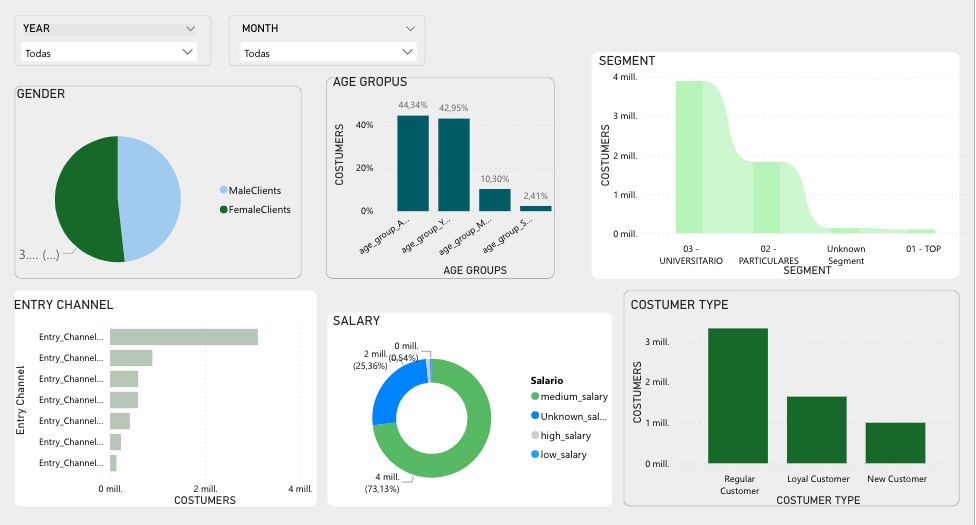

The dashboard page shown, as its layout file describes it:
{"tool":"powerbi","page":{"name":"Página 4","canvas":[1280,720],"ordinal":2},"visuals":[{"type":"clusteredColumnChart","title":"COSTUMER TYPE ","fields":{"Category":["Customers.Tipo de cliente"],"Y":["Medidas.ClientesPorTipoCliente"]},"box":[825.4,395.7,441.5,276.4],"z":0},{"type":"slicer","title":"YEAR","fields":{"Values":["Calendario M.#Año"]},"box":[21,30.1,251.5,69.4],"z":1000},{"type":"slicer","fields":{"Values":["Calendario M.Mes"]},"box":[307.9,30.1,252.9,69.4],"z":2000},{"type":"clusteredBarChart","title":"ENTRY CHANNEL","fields":{"Category":["entryChannel.Entry Channel"],"Y":["Medidas.ClientesPorEntreyChannel"]},"box":[17,395.7,400.9,276.4],"z":3000},{"type":"ribbonChart","title":"SEGMENT","fields":{"Category":["Segment2.Segmento"],"Y":["Medidas.NúmeroClientesPorSegmento"]},"box":[783.5,76,496.5,294.8],"z":4000},{"type":"pieChart","title":"GENDER ","fields":{"Y":["Medidas.MaleClients","Medidas.FemaleClients"]},"box":[21,119.2,378.6,276.4],"z":5000},{"type":"clusteredColumnChart","title":"AGE GROPUS","fields":{"Category":["age_group1.Grupo de edad"],"Y":["Sum(age_group1.Número de clientes)"]},"box":[435,103.5,319.7,267.3],"z":6000},{"type":"donutChart","title":"SALARY","fields":{"Category":["salary.Salario"],"Y":["Medidas.NúmeroClientesPorSalario"]},"box":[435,416.6,381.2,255.5],"z":7000}]}

Visuals, with their boxes on the page's 1280x720 design canvas (x1, y1, x2, y2). These are canvas units, not pixel positions in the 976x525 screenshot, which may show the page scaled, cropped or inside an application window:
"COSTUMER TYPE " clusteredColumnChart: x1=825 y1=396 x2=1267 y2=672
"YEAR" slicer: x1=21 y1=30 x2=272 y2=100
slicer - Calendario M.Mes: x1=308 y1=30 x2=561 y2=100
"ENTRY CHANNEL" clusteredBarChart: x1=17 y1=396 x2=418 y2=672
"SEGMENT" ribbonChart: x1=784 y1=76 x2=1280 y2=371
"GENDER " pieChart: x1=21 y1=119 x2=400 y2=396
"AGE GROPUS" clusteredColumnChart: x1=435 y1=104 x2=755 y2=371
"SALARY" donutChart: x1=435 y1=417 x2=816 y2=672
